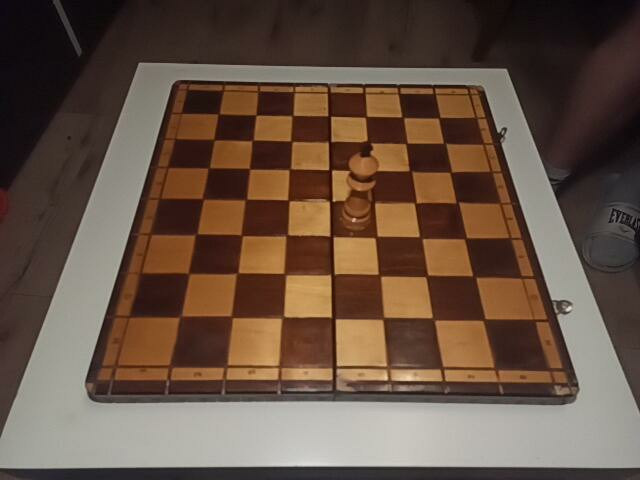W-King: (341, 141, 379, 232)
